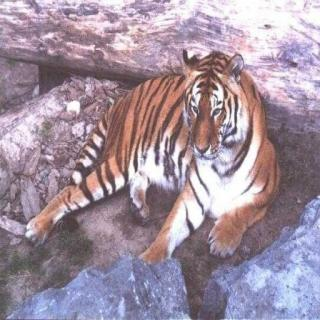Tiger: (17, 38, 284, 264)
